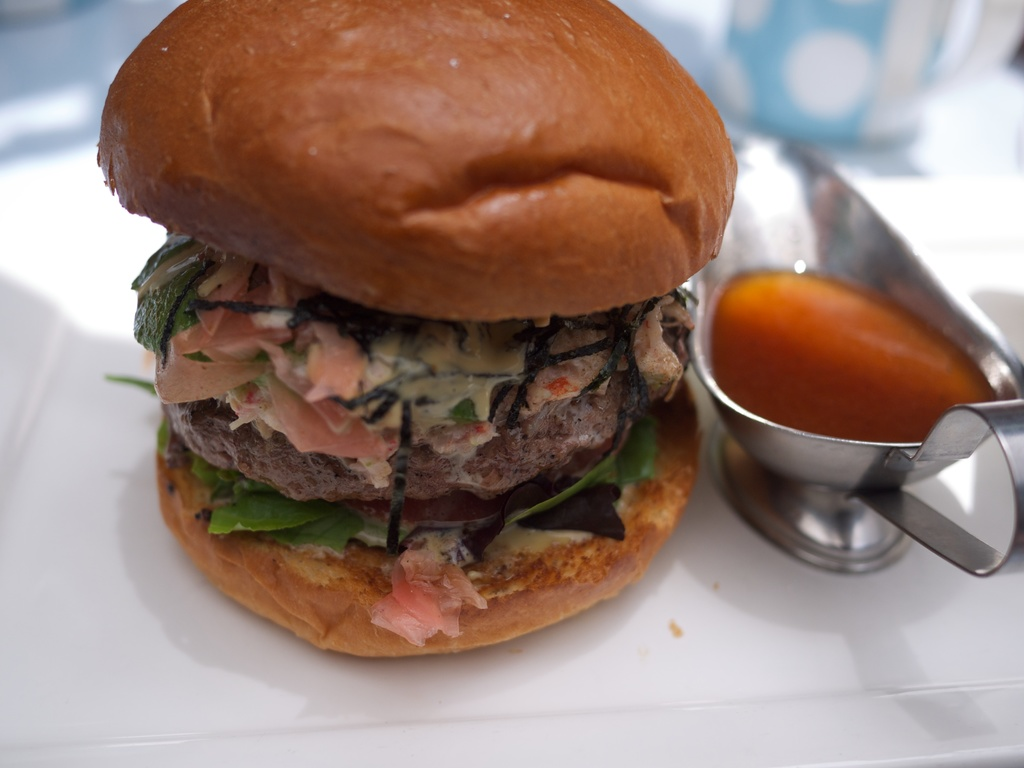Hamburger: (94, 0, 737, 661)
